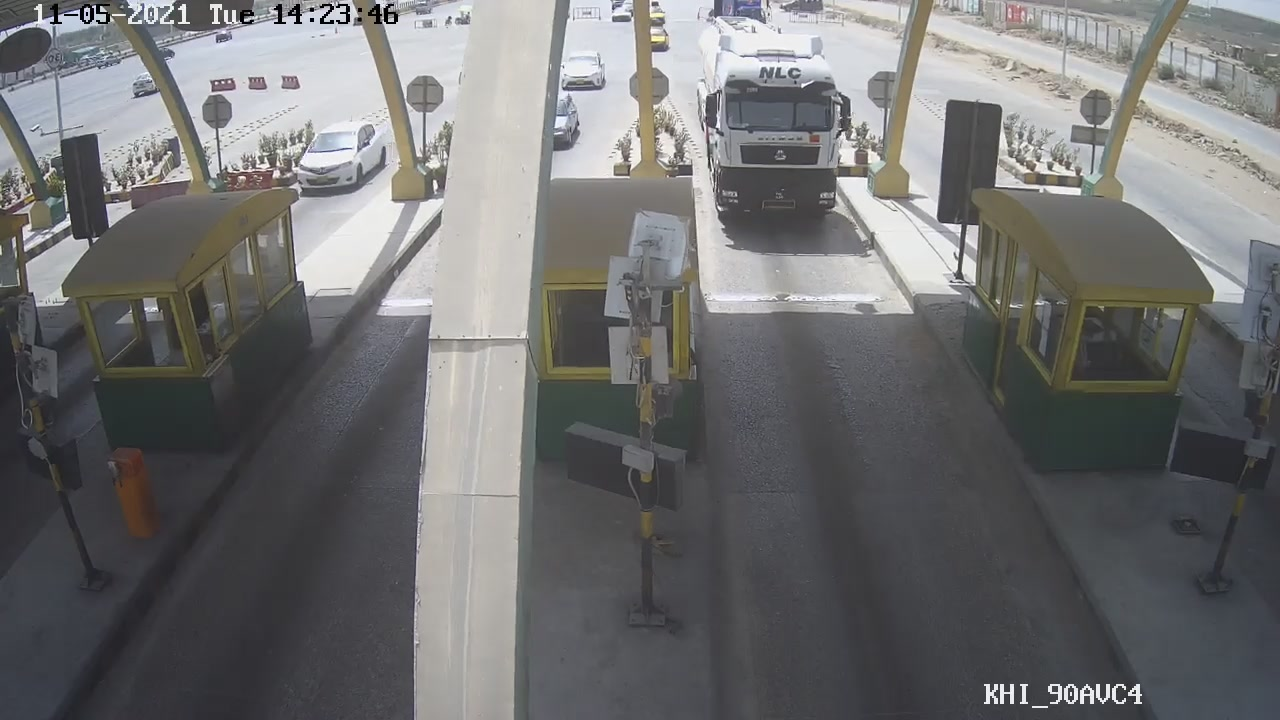F6: (693, 27, 861, 228)
